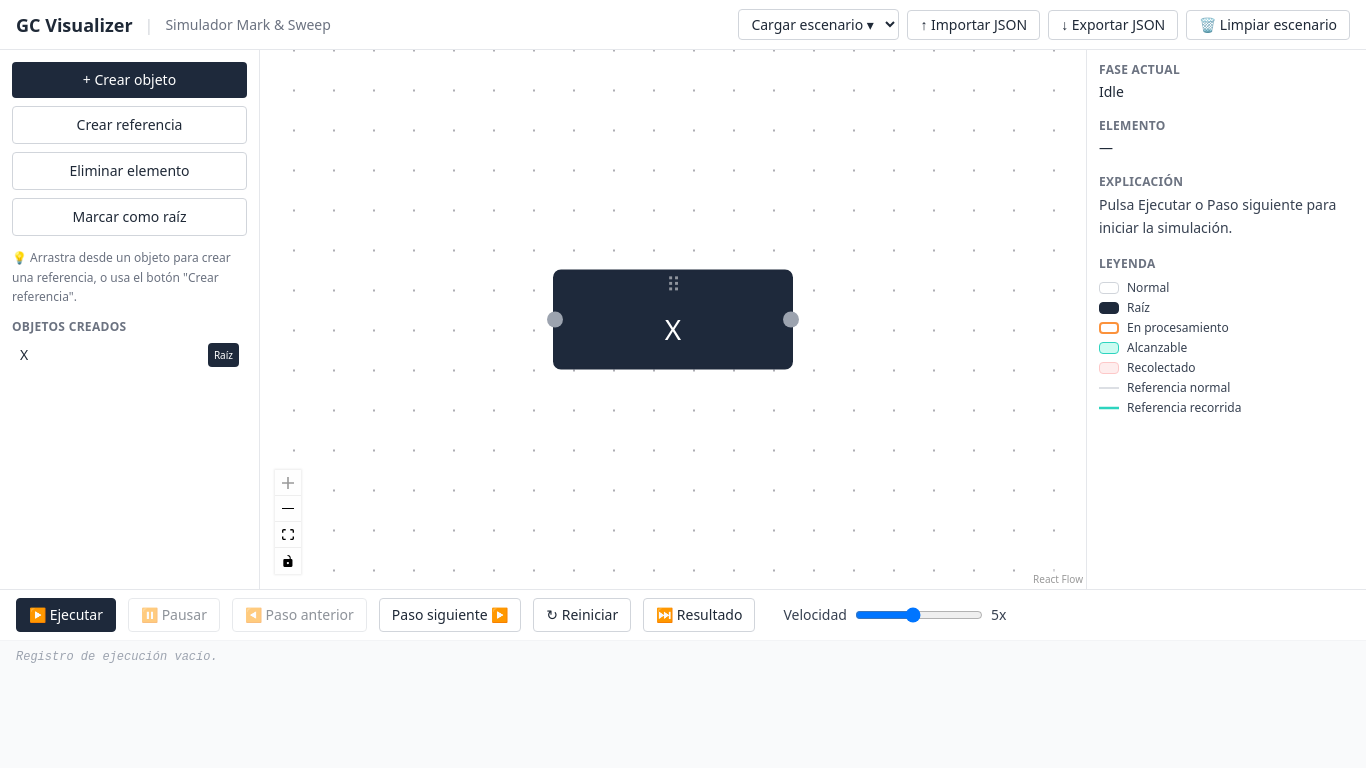
Test: GC Visualizer — End-to-End › TC-E-13: cargar escenario predefinido y verificar estado limpio
Expected: the element with test id "graph-canvas" is shown, [260,50,1086,589]
Click the button with test id "btn-ejecutar".
click(66, 615)  # box [16,598,116,632]
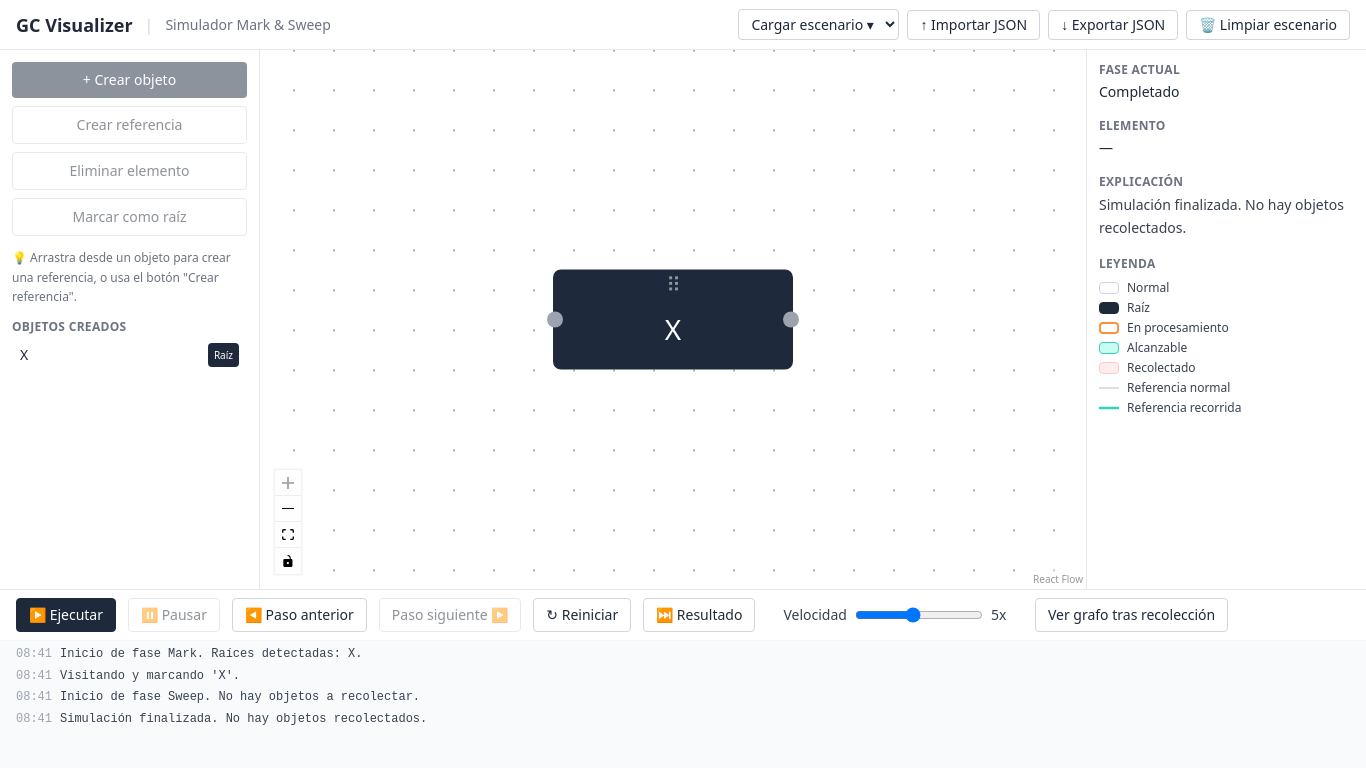
Expected: the text with test id "info-fase-actual" reads "Completado", [1099,82,1180,101]
// Load "Ciclo alcanzable".
Select "Ciclo alcanzable" in the dropdown with test id "btn-cargar-escenario" at coordinates (819, 25), box [738,9,899,40]
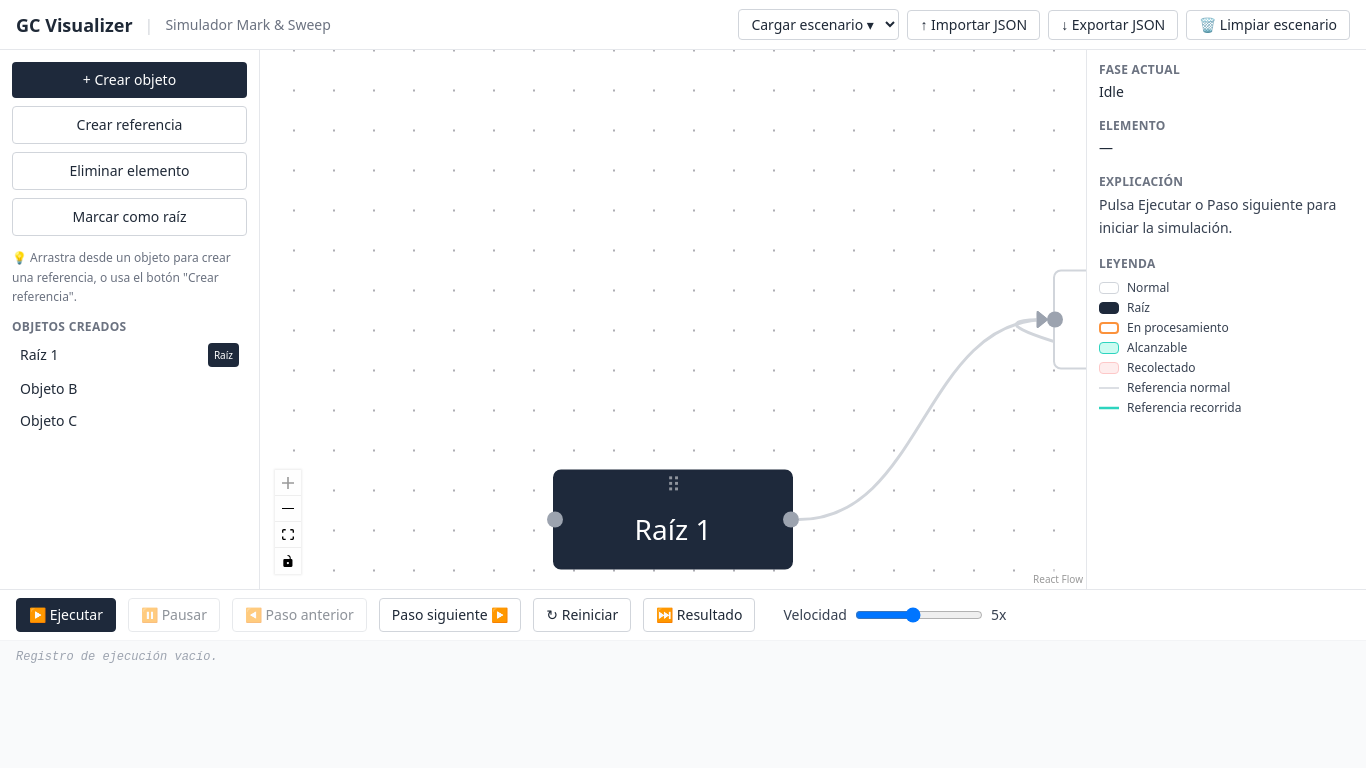
Expected: the text with test id "info-fase-actual" reads "Idle", [1099,82,1124,101]
